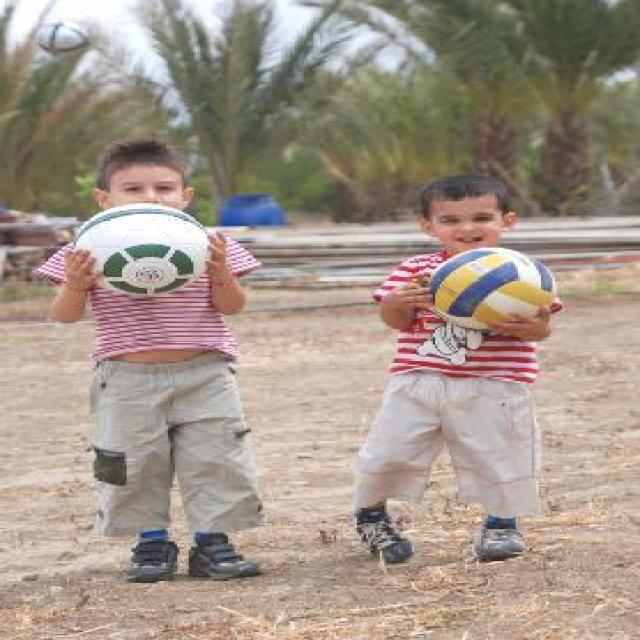volleyball: (426, 248, 558, 330)
